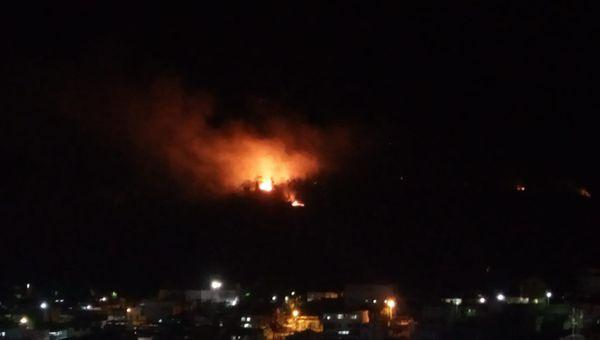fire: (257, 168, 278, 194)
smoke: (144, 122, 216, 175)
